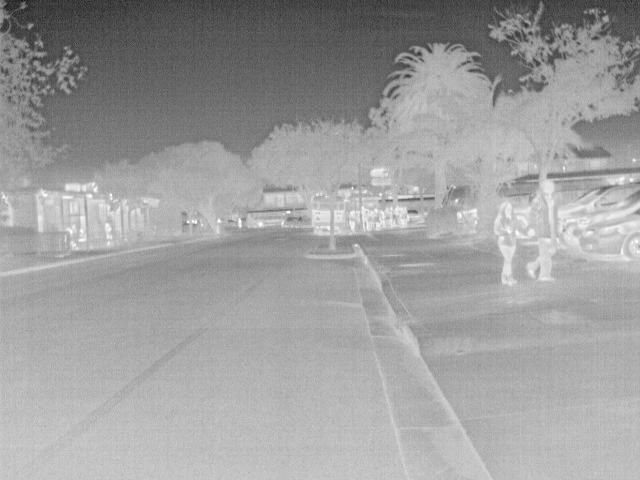car: (557, 180, 639, 251), (580, 207, 634, 264), (454, 206, 477, 232), (405, 207, 423, 223)
person: (493, 200, 538, 287), (527, 220, 562, 324), (67, 222, 80, 250), (104, 222, 116, 250), (75, 228, 88, 244), (236, 214, 243, 228)
